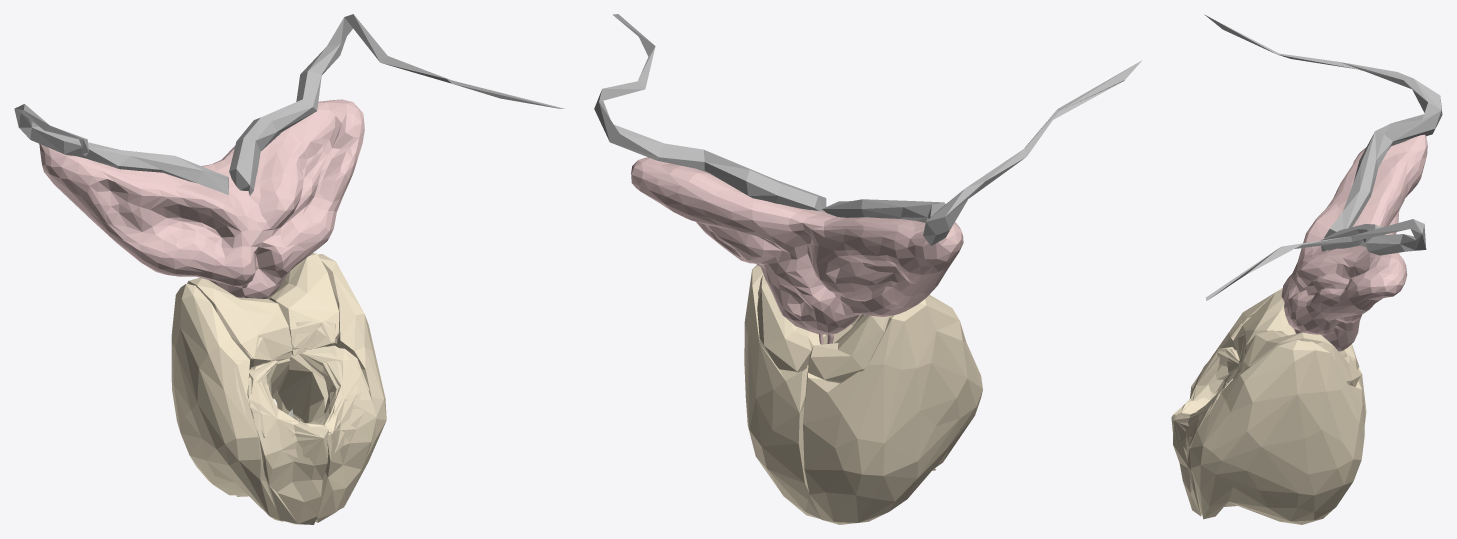
The model's file is VH_M_Prostate_0.1.glb.
3 renders of one model, left to right at view 1: azimuth 30°, elevation 25°; view 2: azimuth 150°, elevation 25°; view 3: azimuth 270°, elevation 25°, orthographic. The views are drawn at different scales.
Parts seen in each view (by area): view 1: VH_M_seminal_vesicle, VH_M_peripheral_zone_of_prostate_R, VH_M_anterior_fibromuscular_stroma_R, VH_M_vas_deferens_R, VH_M_anterior_fibromuscular_stroma_L, VH_M_base_of_prostate, VH_M_vas_deferens_L, VH_M_central_zone_of_prostate_L, VH_M_peripheral_zone_of_prostate_L, VH_M_central_zone_of_prostate_R, VH_M_transition_zone__of_prostate_L; view 2: VH_M_peripheral_zone_of_prostate_R, VH_M_seminal_vesicle, VH_M_peripheral_zone_of_prostate_L, VH_M_vas_deferens_R, VH_M_vas_deferens_L, VH_M_central_zone_of_prostate_R, VH_M_central_zone_of_prostate_L; view 3: VH_M_peripheral_zone_of_prostate_L, VH_M_seminal_vesicle, VH_M_vas_deferens_L, VH_M_vas_deferens_R, VH_M_central_zone_of_prostate_L, VH_M_base_of_prostate, VH_M_central_zone_of_prostate_R, VH_M_anterior_fibromuscular_stroma_L, VH_M_anterior_fibromuscular_stroma_R, VH_M_peripheral_zone_of_prostate_R.
Boxes of the visible parts, left/top/right/bottom form: VH_M_seminal_vesicle: left=39, top=99, right=364, bottom=298; VH_M_peripheral_zone_of_prostate_R: left=171, top=283, right=285, bottom=521; VH_M_anterior_fibromuscular_stroma_R: left=247, top=361, right=328, bottom=524; VH_M_vas_deferens_R: left=229, top=14, right=564, bottom=195; VH_M_anterior_fibromuscular_stroma_L: left=299, top=345, right=376, bottom=522; VH_M_base_of_prostate: left=234, top=321, right=369, bottom=457; VH_M_vas_deferens_L: left=14, top=104, right=228, bottom=195; VH_M_central_zone_of_prostate_L: left=267, top=253, right=339, bottom=356; VH_M_peripheral_zone_of_prostate_L: left=272, top=254, right=386, bottom=508; VH_M_central_zone_of_prostate_R: left=187, top=277, right=292, bottom=369; VH_M_transition_zone__of_prostate_L: left=276, top=354, right=328, bottom=422; VH_M_peripheral_zone_of_prostate_R: left=803, top=295, right=982, bottom=524; VH_M_seminal_vesicle: left=631, top=157, right=963, bottom=334; VH_M_peripheral_zone_of_prostate_L: left=744, top=265, right=820, bottom=519; VH_M_vas_deferens_R: left=594, top=14, right=826, bottom=211; VH_M_vas_deferens_L: left=822, top=60, right=1142, bottom=245; VH_M_central_zone_of_prostate_R: left=808, top=314, right=890, bottom=383; VH_M_central_zone_of_prostate_L: left=757, top=274, right=827, bottom=372; VH_M_peripheral_zone_of_prostate_L: left=1190, top=340, right=1364, bottom=524; VH_M_seminal_vesicle: left=1281, top=134, right=1427, bottom=351; VH_M_vas_deferens_L: left=1204, top=14, right=1442, bottom=237; VH_M_vas_deferens_R: left=1206, top=219, right=1426, bottom=300; VH_M_central_zone_of_prostate_L: left=1232, top=330, right=1360, bottom=386; VH_M_base_of_prostate: left=1172, top=323, right=1246, bottom=447; VH_M_central_zone_of_prostate_R: left=1233, top=291, right=1359, bottom=369; VH_M_anterior_fibromuscular_stroma_L: left=1173, top=379, right=1232, bottom=516; VH_M_anterior_fibromuscular_stroma_R: left=1171, top=349, right=1238, bottom=431; VH_M_peripheral_zone_of_prostate_R: left=1190, top=288, right=1366, bottom=424.
Size of the model in its own units: 0.0814 by 0.07 by 0.0428.
